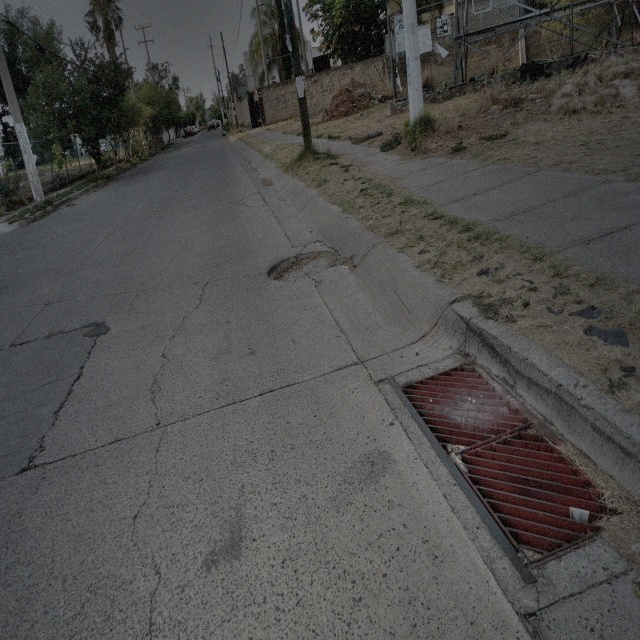pothole: (268, 249, 350, 278)
